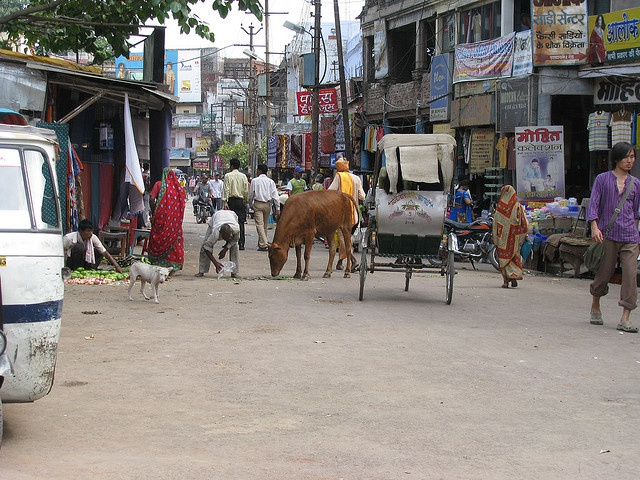non-vehicle: (426, 212, 526, 273), (193, 189, 211, 224)
